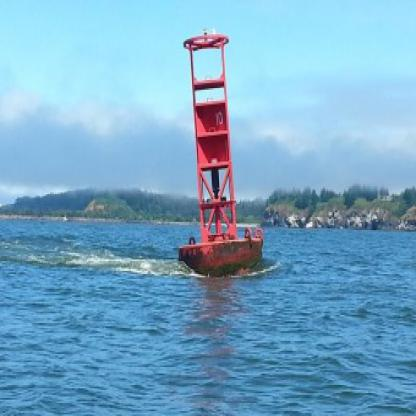buoy: (166, 5, 270, 279)
